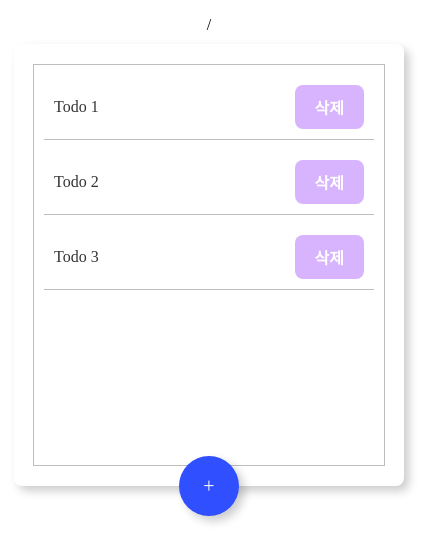
Scenario: List Page › 생성 페이지로 이동
Expected: the text "/" is shown, [207,16,211,34]
Click the link "+" at x=209, y=486, box [179,456,239,516]
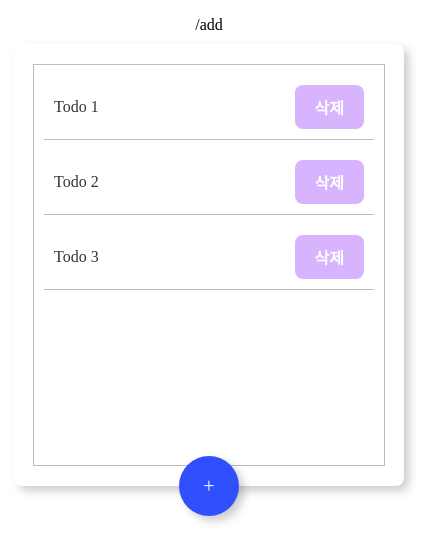
Now the text "/add" is shown, box [195,16,223,34]
